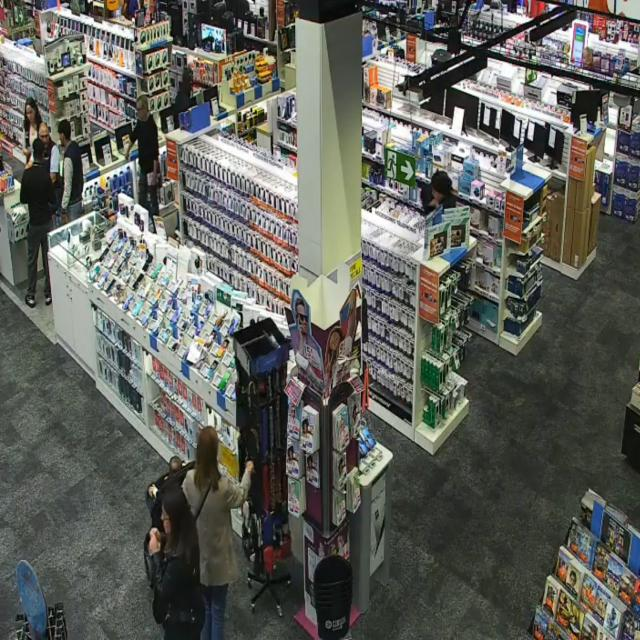article: (146, 172, 153, 186)
bags: (153, 582, 205, 631)
hands: (149, 528, 161, 553), (148, 484, 158, 500), (61, 211, 69, 225), (246, 461, 254, 473), (24, 148, 31, 160), (430, 198, 439, 207), (152, 173, 158, 186), (125, 152, 130, 161)
person: (183, 427, 253, 639), (150, 487, 204, 639), (21, 139, 55, 307), (125, 95, 159, 229), (58, 120, 83, 223), (421, 171, 456, 213), (38, 123, 60, 188), (173, 67, 192, 128), (24, 97, 41, 160)
